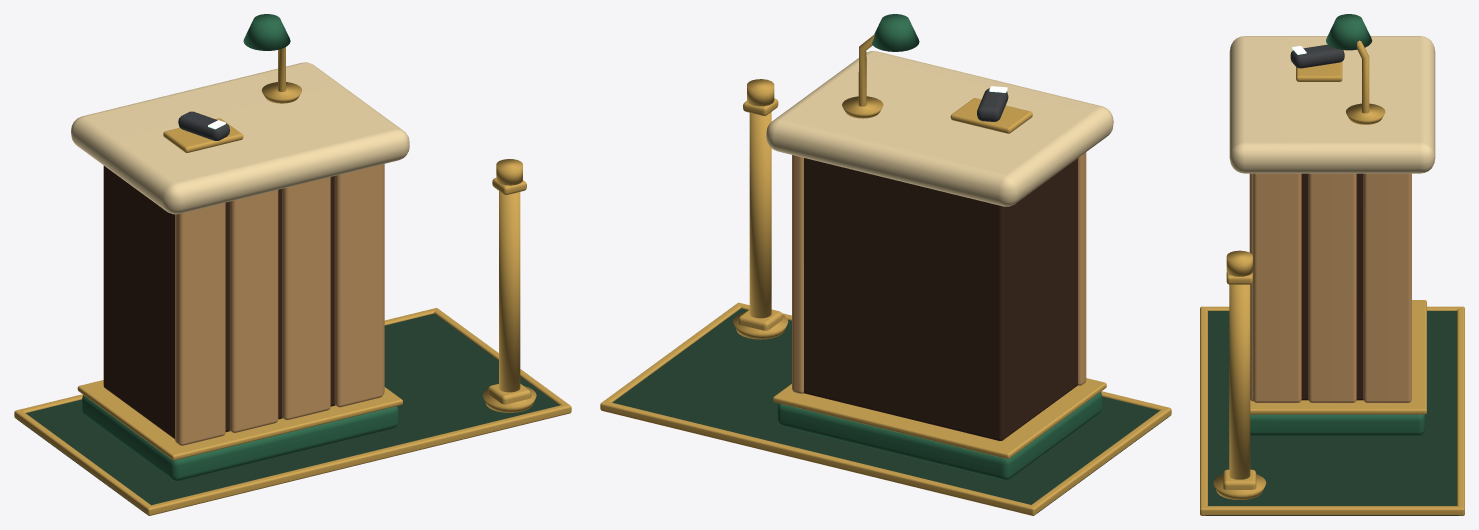
File: security_booth_tier1.glb
3 views of the same model, side by side, from view 1: azimuth 30°, elevation 25°; view 2: azimuth 150°, elevation 25°; view 3: azimuth 270°, elevation 25° (orthographic). The views are drawn at different scales.
Visible parts, largest first — view 1: Top, Mat, Core, SlatF0, SlatF3, SlatF1, SlatF2, Plinth, PlinthBand, MatEdge0, Stanchion, MatEdge2 (+8 smaller); view 2: Core, Top, Mat, Plinth, PlinthBand, MatEdge1, Stanchion, SlatE2, SlatF0, MatEdge2, LampShade, ScannerTray (+5 smaller); view 3: Top, Mat, SlatE0, SlatE1, SlatE2, Stanchion, Plinth, PlinthBand, Core, MatEdge3, MatEdge0, MatEdge1 (+9 smaller).
Boxes of the visible parts, x1=… form: Top: x1=71, y1=62, x2=409, y2=214; Mat: x1=17, y1=313, x2=559, y2=515; Core: x1=103, y1=166, x2=335, y2=438; SlatF0: x1=175, y1=202, x2=225, y2=445; SlatF3: x1=334, y1=164, x2=383, y2=407; SlatF1: x1=229, y1=190, x2=278, y2=432; SlatF2: x1=282, y1=177, x2=330, y2=419; Plinth: x1=82, y1=395, x2=398, y2=481; PlinthBand: x1=77, y1=380, x2=402, y2=460; MatEdge0: x1=146, y1=404, x2=571, y2=515; Stanchion: x1=499, y1=191, x2=520, y2=392; MatEdge2: x1=14, y1=411, x2=150, y2=514; Core: x1=803, y1=158, x2=1077, y2=440; Top: x1=766, y1=51, x2=1113, y2=206; Mat: x1=612, y1=308, x2=1168, y2=515; Plinth: x1=777, y1=392, x2=1102, y2=480; PlinthBand: x1=773, y1=378, x2=1106, y2=458; MatEdge1: x1=600, y1=401, x2=1036, y2=515; Stanchion: x1=749, y1=112, x2=771, y2=318; SlatE2: x1=792, y1=155, x2=803, y2=393; SlatF0: x1=1078, y1=152, x2=1086, y2=385; MatEdge2: x1=1032, y1=408, x2=1171, y2=514; LampShade: x1=871, y1=14, x2=919, y2=51; ScannerTray: x1=950, y1=98, x2=1032, y2=133; Top: x1=1229, y1=36, x2=1435, y2=173; Mat: x1=1206, y1=311, x2=1458, y2=515; SlatE0: x1=1253, y1=173, x2=1301, y2=402; SlatE1: x1=1308, y1=173, x2=1356, y2=402; SlatE2: x1=1363, y1=173, x2=1411, y2=402; Stanchion: x1=1229, y1=284, x2=1250, y2=479; Plinth: x1=1250, y1=414, x2=1425, y2=435; PlinthBand: x1=1250, y1=300, x2=1426, y2=414; Core: x1=1301, y1=173, x2=1363, y2=400; MatEdge3: x1=1202, y1=506, x2=1462, y2=515; MatEdge0: x1=1200, y1=306, x2=1207, y2=515; MatEdge1: x1=1457, y1=306, x2=1464, y2=515.
Size of the model in its own units: 1.45 by 1.29 by 0.8001.
